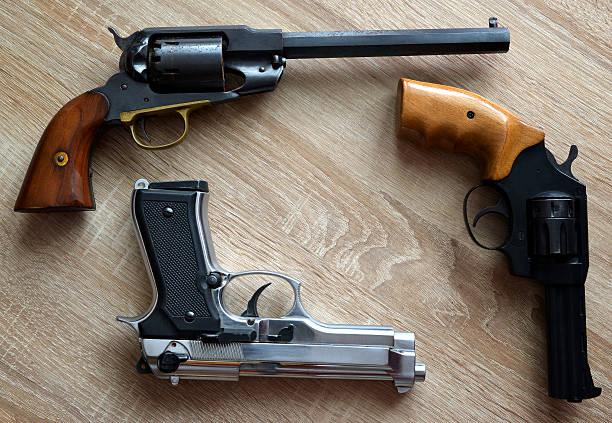gun: (13, 17, 511, 216), (395, 74, 603, 406), (115, 181, 428, 399)
